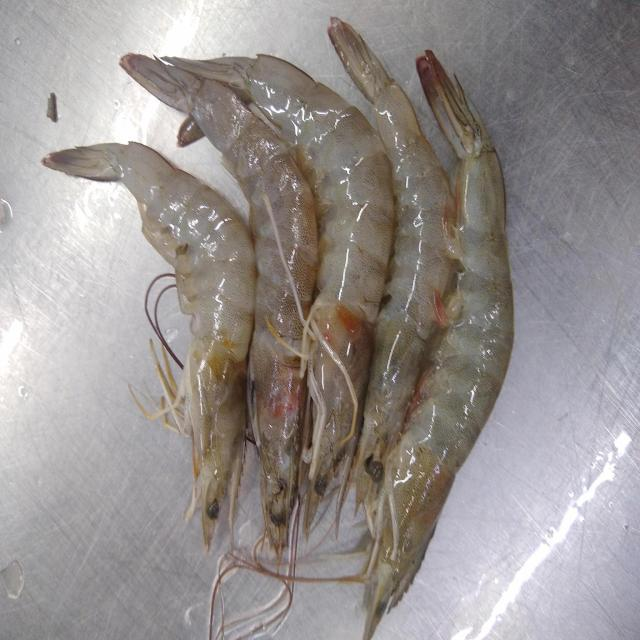shrimp: (364, 51, 514, 640), (42, 142, 256, 552), (242, 55, 395, 535), (191, 75, 317, 561), (339, 24, 459, 507)
